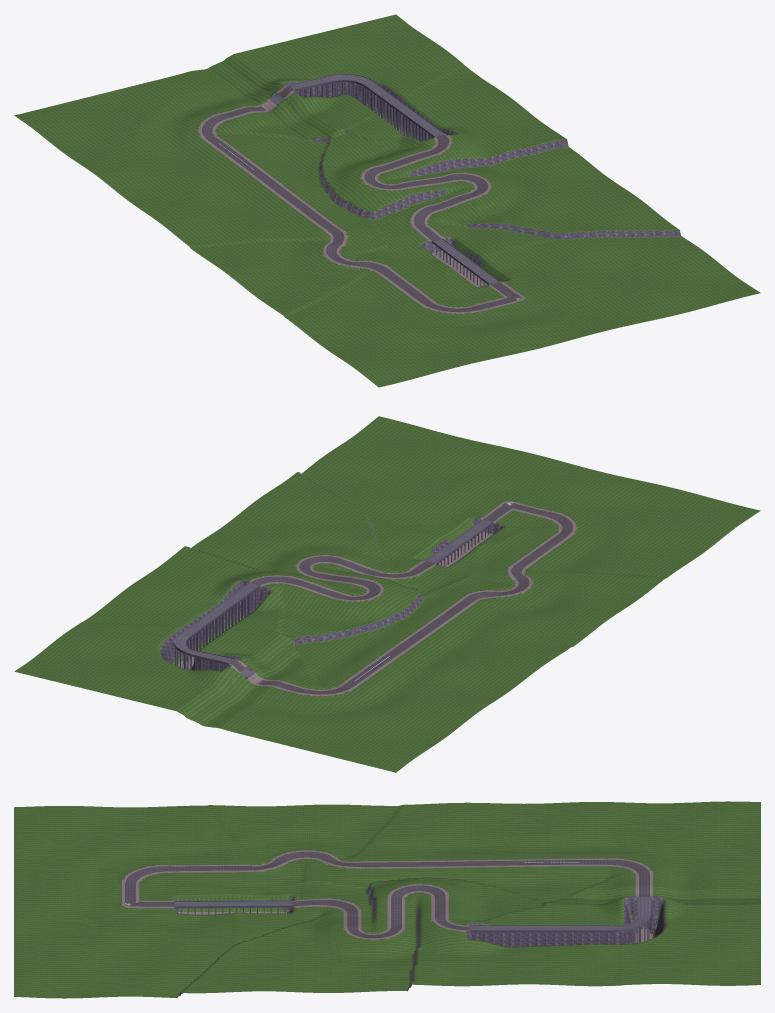
The picture shows the model from 3 angles, top to bottom: view 1: azimuth 30°, elevation 25°; view 2: azimuth 150°, elevation 25°; view 3: azimuth 270°, elevation 25°; orthographic projection. The views are drawn at different scales.
Visible parts, largest first — view 1: Land, Road 07 deck, Road 07 deck Piers, Road 02 deck, Road 03 road, Road 04 road, Road 06 road; view 2: Land, Road 07 deck, Road 07 deck Piers, Road 02 deck, Road 06 road, Road 04 road; view 3: Land, Road 07 deck, Road 02 deck, Road 07 deck Piers, Road 05 road, Road 03 road, Road 12 road, Road 15 road, Road 16 road, Road 17 road, Road 11 road, Road 13 road (+3 smaller).
Boxes of the visible parts, left/top/right/bottom form: Land: left=14, top=14, right=760, bottom=387; Road 07 deck: left=289, top=73, right=445, bottom=137; Road 07 deck Piers: left=294, top=82, right=433, bottom=141; Road 02 deck: left=432, top=238, right=499, bottom=285; Road 03 road: left=412, top=198, right=459, bottom=241; Road 04 road: left=431, top=173, right=489, bottom=202; Road 06 road: left=376, top=134, right=450, bottom=172; Land: left=14, top=416, right=760, bottom=772; Road 07 deck: left=173, top=582, right=260, bottom=664; Road 07 deck Piers: left=175, top=590, right=255, bottom=670; Road 02 deck: left=425, top=518, right=493, bottom=564; Road 06 road: left=250, top=576, right=346, bottom=599; Road 04 road: left=298, top=555, right=354, bottom=579; Land: left=14, top=801, right=760, bottom=998; Road 07 deck: left=469, top=896, right=650, bottom=932; Road 02 deck: left=174, top=900, right=291, bottom=908; Road 07 deck Piers: left=475, top=921, right=649, bottom=946; Road 05 road: left=390, top=884, right=446, bottom=917; Road 03 road: left=291, top=899, right=359, bottom=921; Road 12 road: left=520, top=859, right=616, bottom=865; Road 15 road: left=254, top=851, right=336, bottom=870; Road 16 road: left=157, top=865, right=253, bottom=872; Road 17 road: left=123, top=866, right=159, bottom=904; Road 11 road: left=614, top=859, right=650, bottom=895; Road 13 road: left=424, top=860, right=519, bottom=867.
Size of the model in its own units: 620 by 51.06 by 1025.
8 materials, 8 textured.
